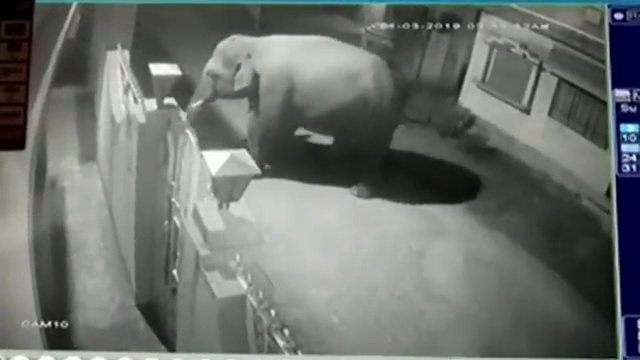Elephant: (186, 34, 401, 199)
